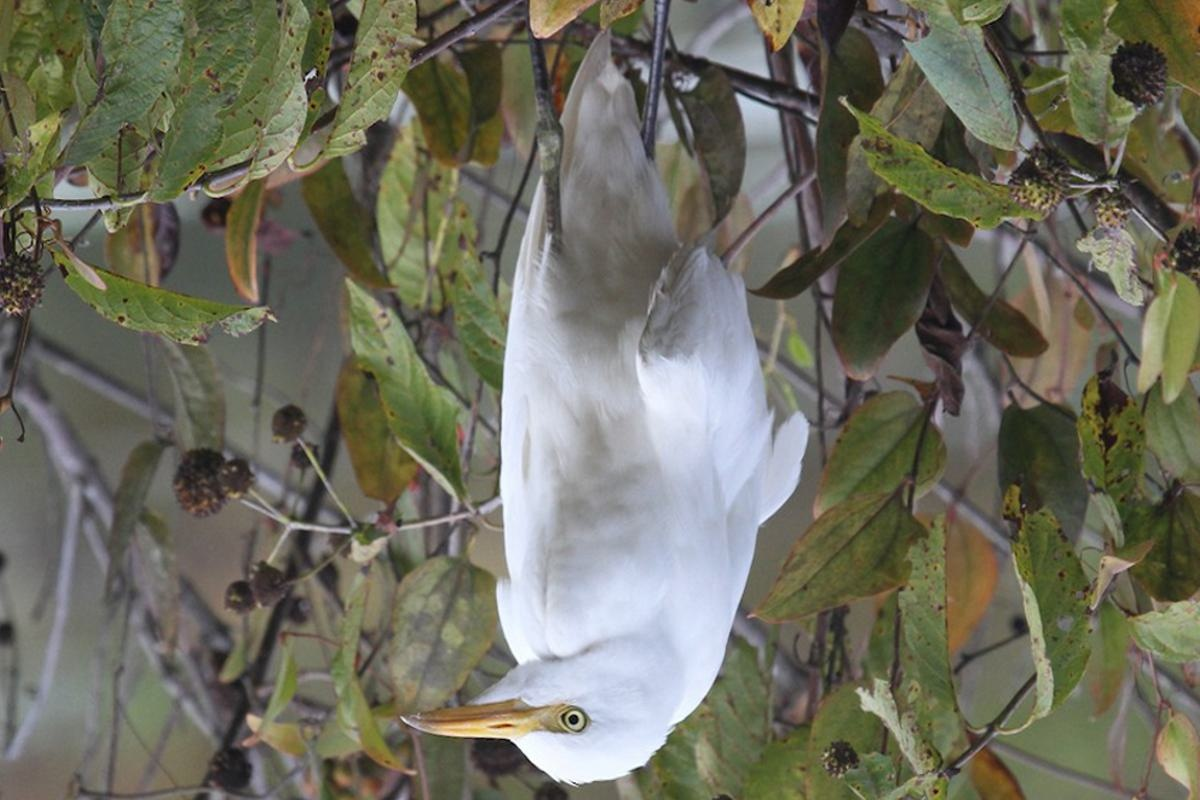egret: (391, 126, 816, 786)
